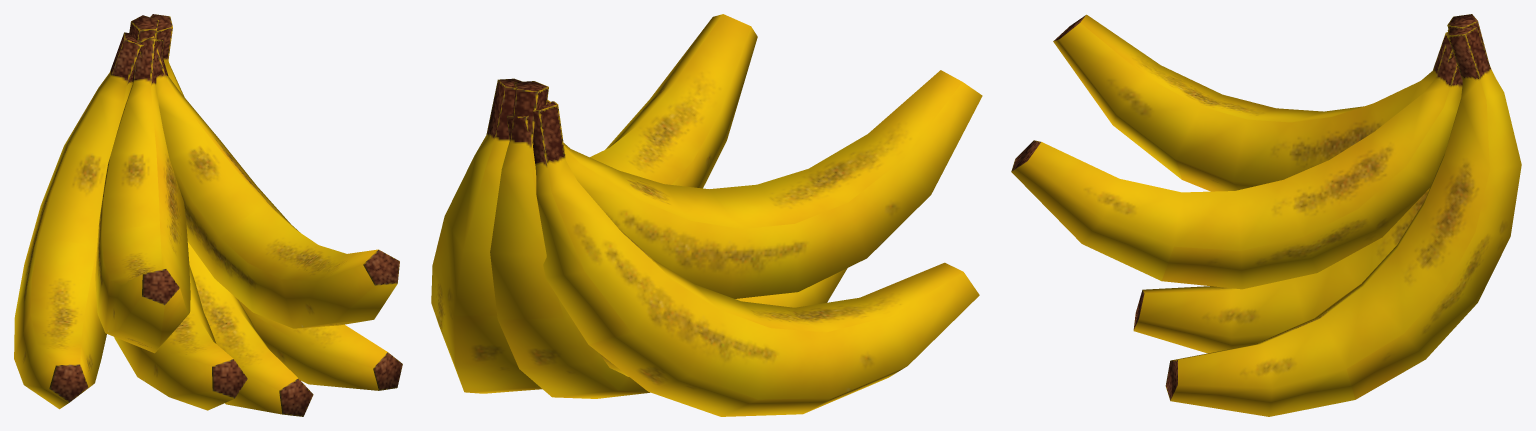
The model's file is Bananas.fbx.
3 renders of one model, left to right at view 1: azimuth 30°, elevation 25°; view 2: azimuth 150°, elevation 25°; view 3: azimuth 270°, elevation 25°, orthographic. The views are drawn at different scales.
Visible parts, largest first — view 1: Banana.001, Banana.002, Banana, Banana.003, BananaRoot, Banana.004; view 2: Banana.002, Banana, BananaRoot, Banana.003, Banana.001, Banana.004; view 3: Banana.003, Banana.001, Banana, BananaRoot.
Boxes of the visible parts, left/top/right/bottom form: Banana.001: left=137, top=36, right=399, bottom=328; Banana.002: left=14, top=32, right=143, bottom=409; Banana: left=95, top=38, right=190, bottom=353; Banana.003: left=150, top=14, right=402, bottom=390; BananaRoot: left=129, top=15, right=313, bottom=416; Banana.004: left=114, top=265, right=247, bottom=410; Banana.002: left=533, top=101, right=979, bottom=416; Banana: left=546, top=70, right=982, bottom=298; BananaRoot: left=490, top=81, right=649, bottom=398; Banana.003: left=431, top=78, right=542, bottom=393; Banana.001: left=547, top=14, right=757, bottom=188; Banana.004: left=507, top=114, right=847, bottom=376; Banana.003: left=1165, top=25, right=1521, bottom=416; Banana.001: left=1011, top=44, right=1462, bottom=289; Banana: left=1053, top=14, right=1454, bottom=191; BananaRoot: left=1133, top=14, right=1494, bottom=353.
Size of the model in its own units: 23.49 by 19.99 by 26.93.
